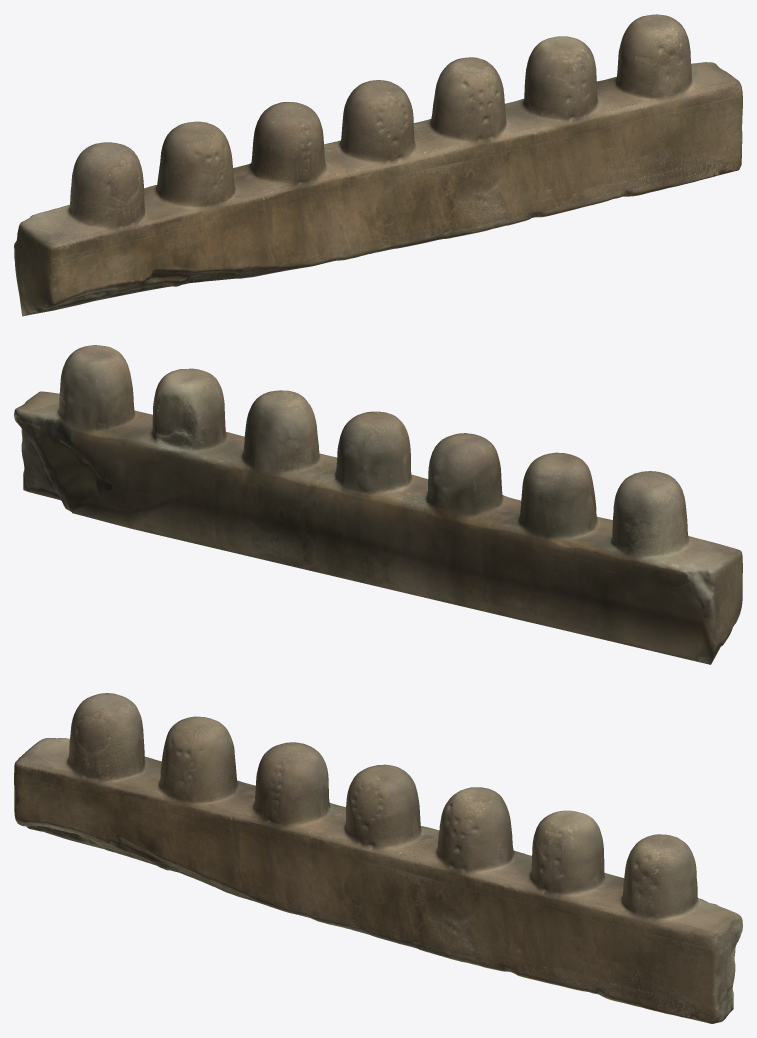
The model's file is 7_nhóm 7 linga_final.glb.
The picture shows the model from 3 angles, top to bottom: view 1: azimuth 30°, elevation 25°; view 2: azimuth 150°, elevation 25°; view 3: azimuth 330°, elevation 25°; orthographic projection.
Bounding box in the file's own units: 2.41 × 0.5332 × 0.2399.
Materials: 1 (1 with a texture image).
